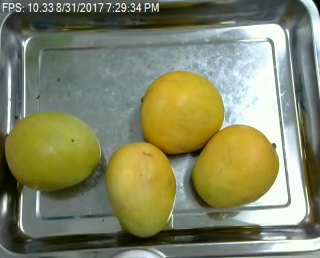Mango: (4, 112, 100, 194), (194, 124, 281, 207), (142, 70, 226, 155), (105, 143, 174, 237)
